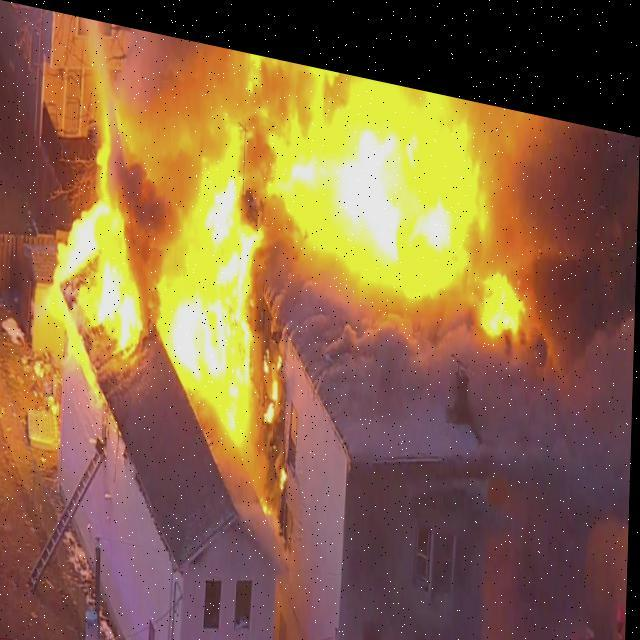Fire: (45, 11, 566, 504)
